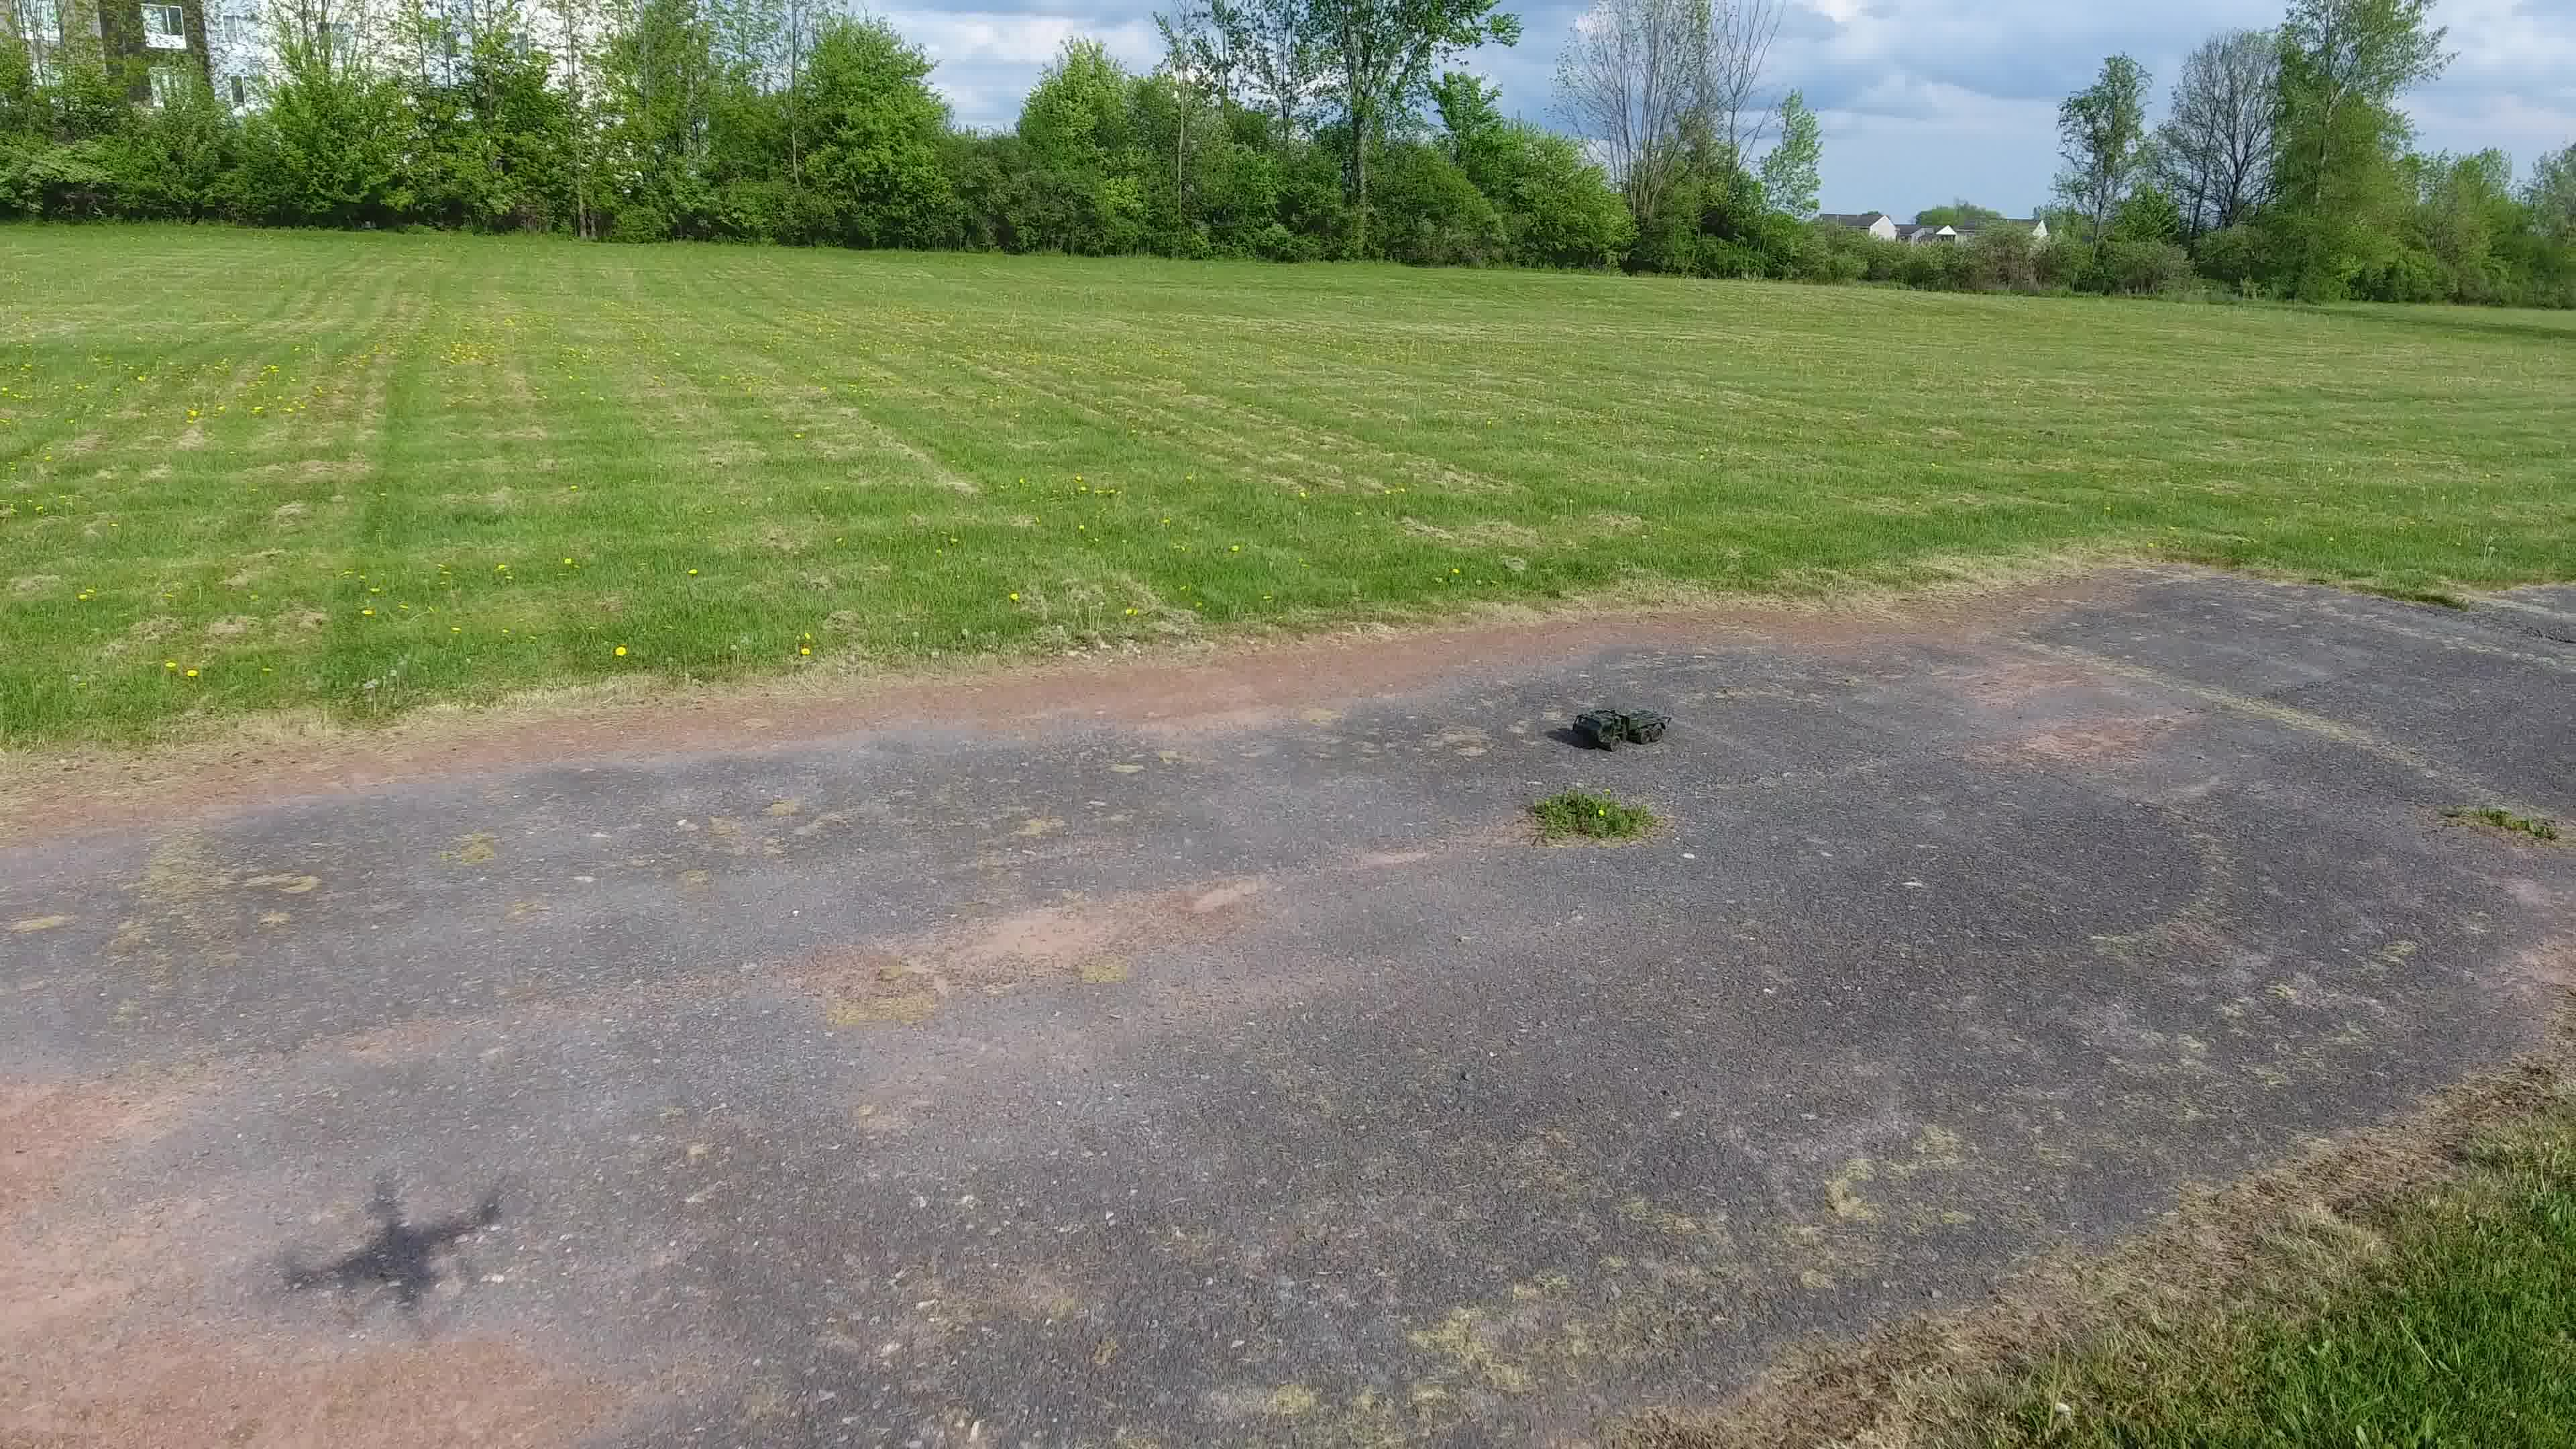transporter9_camo: (1569, 692, 1674, 754)
